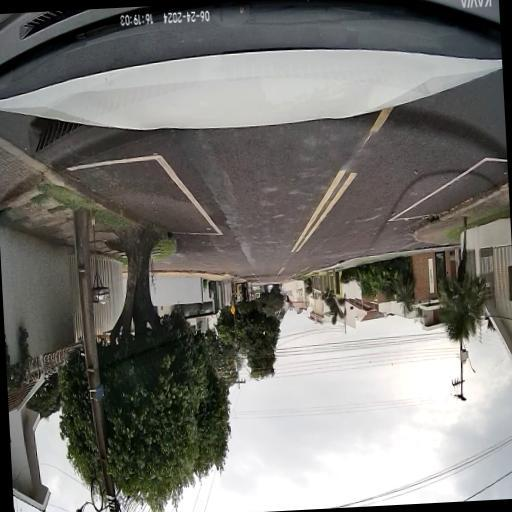A-12: (229, 305, 235, 314)
